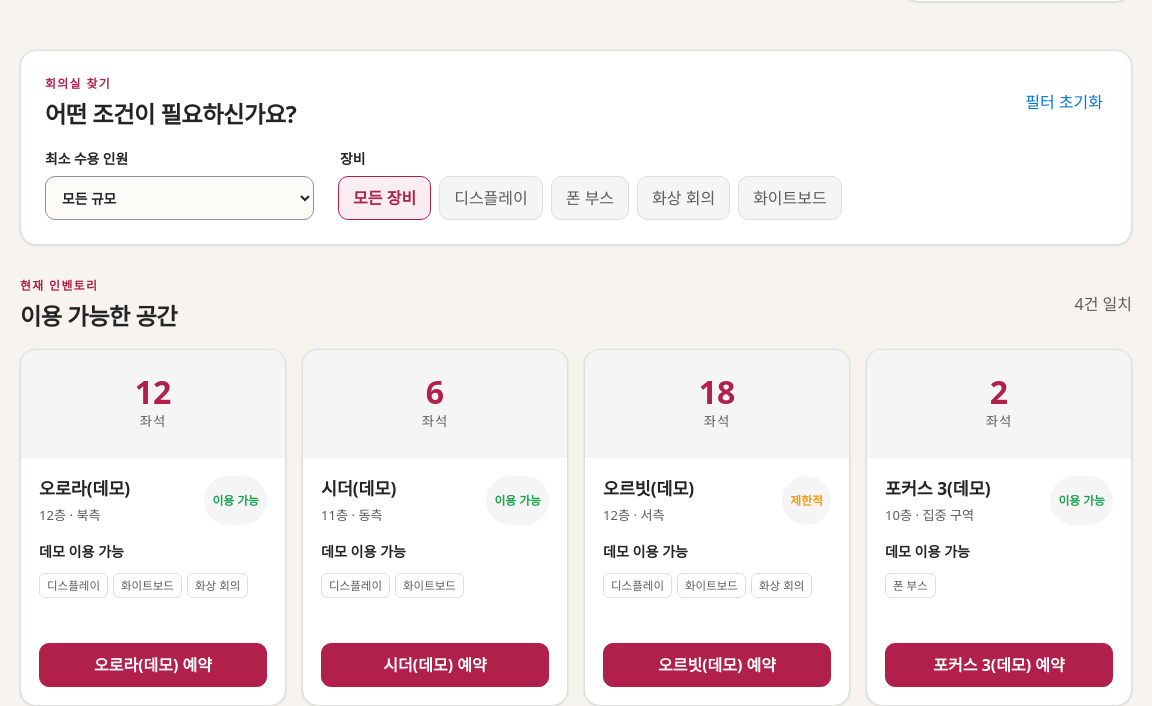
it: RoomsPage › shows a visible error when reservation creation fails
(page scrolled)
Click the button "오로라(데모) 예약".
click(153, 665)  # box [39, 643, 267, 687]
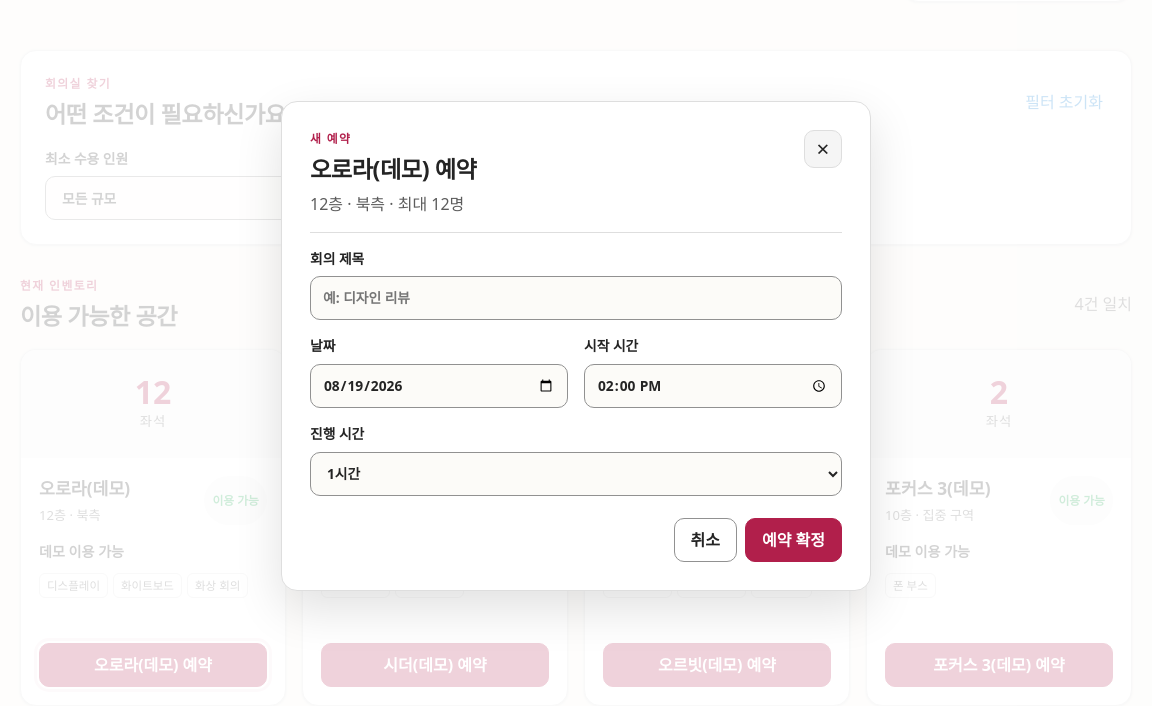
Type "Design review" into the field labelled "회의 제목".
click(576, 298); type("Design review")  # box [310, 276, 842, 320]
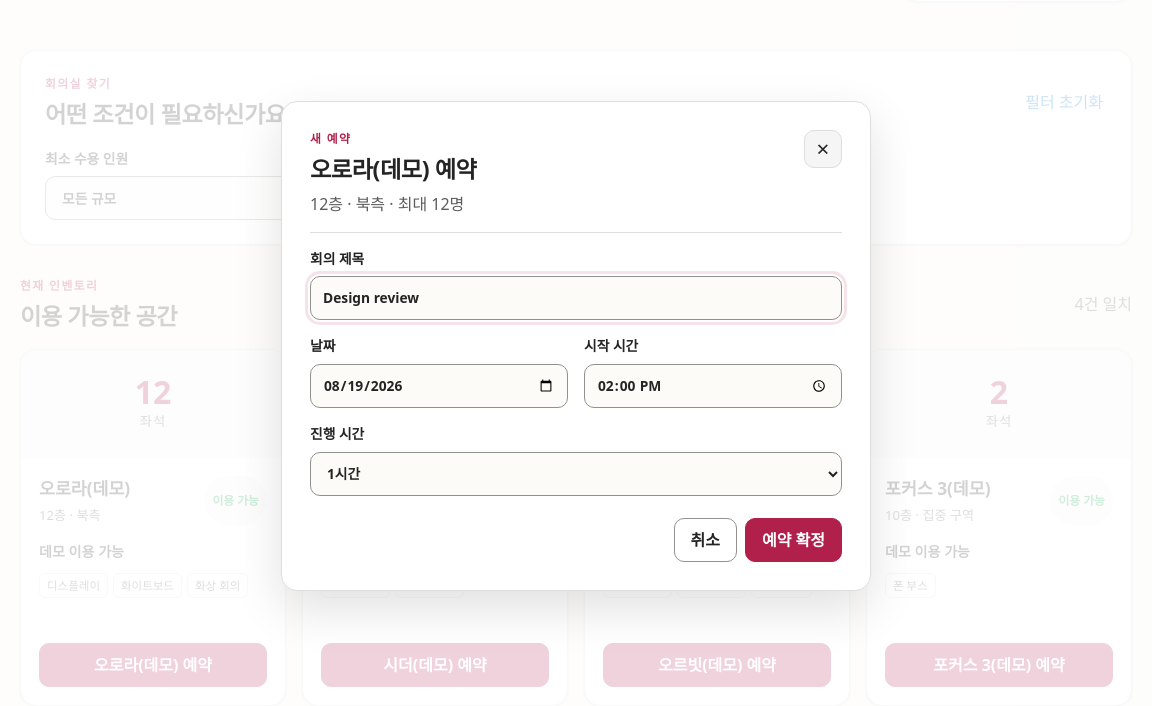
Click the button "예약 확정".
click(794, 540)  # box [745, 518, 842, 562]
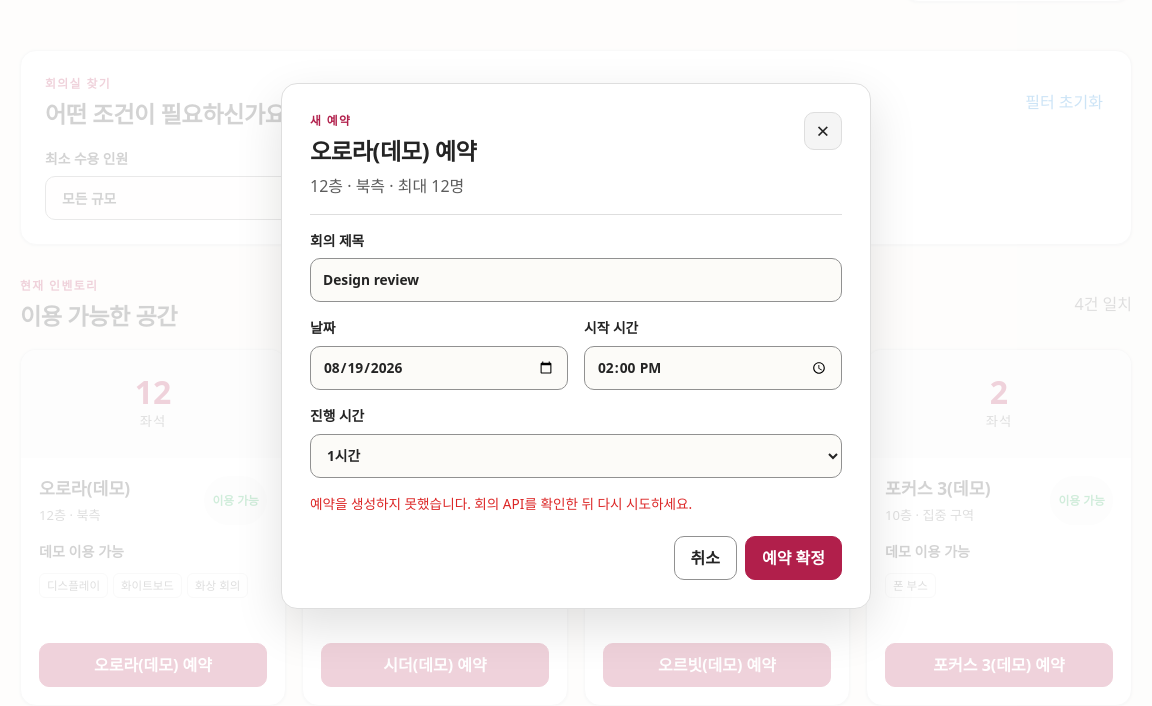
Expected: the message shows "생성하지 못했습니다", [310, 494, 692, 513]
